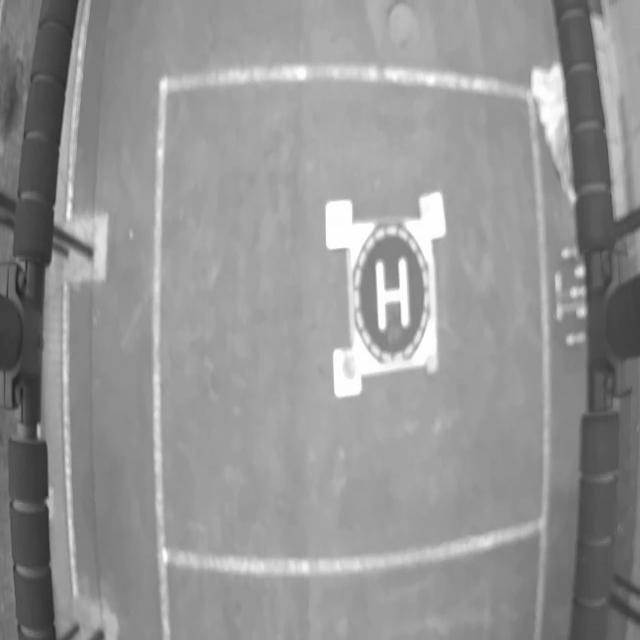Helipad: (374, 257, 410, 332)
